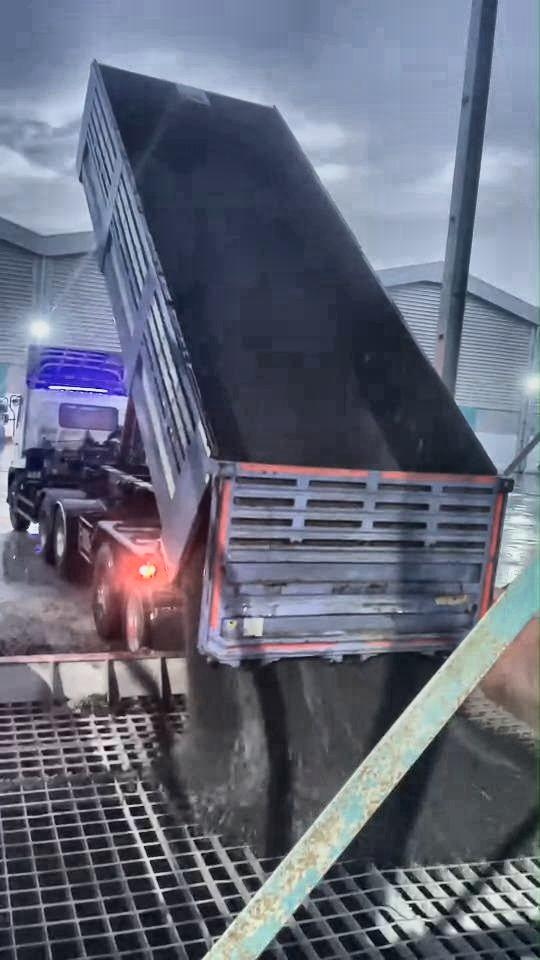gravel: (179, 545, 435, 854), (353, 718, 536, 864)
